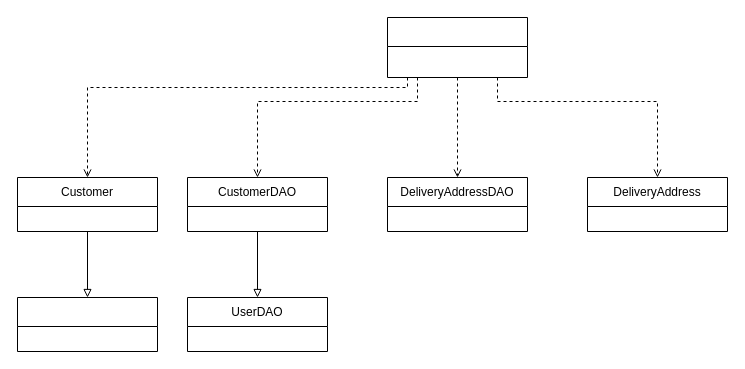
This 745x369 diagram has some shape labels left out. The shapes that lost their labels are listed below. From the top down, each one's box as (x1, y1, x2, y2) in pixels, then its label:
(386, 16, 528, 78): CustomerController
(16, 296, 158, 352): User
